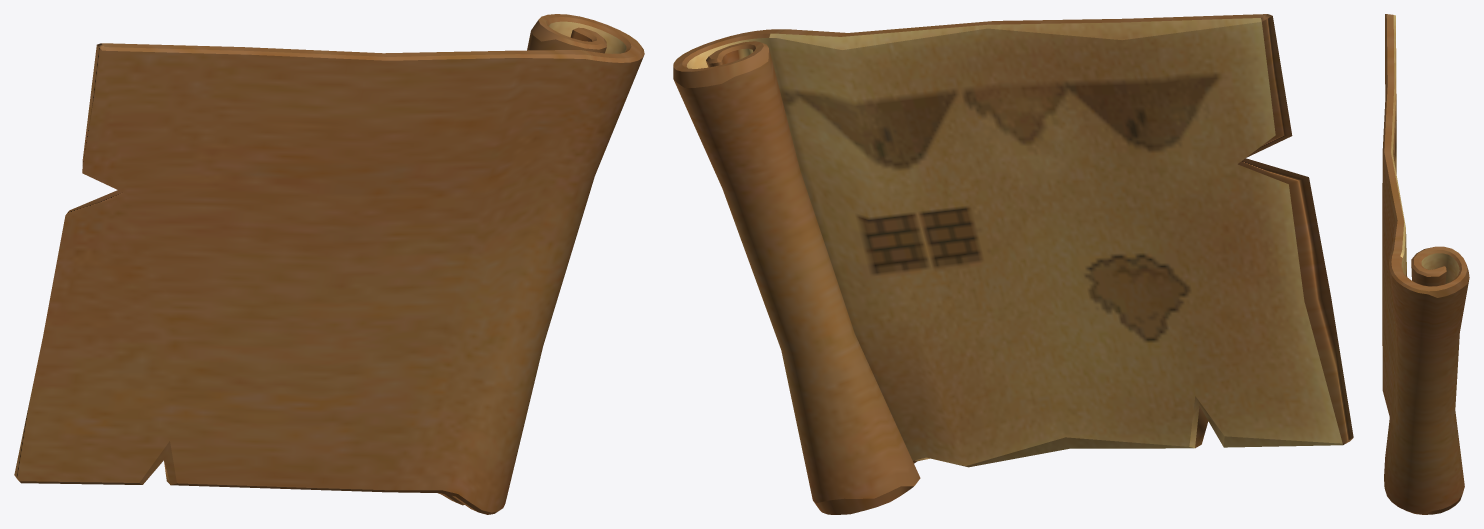
The model's file is Scroll.FBX.
The picture shows the model from 3 angles, left to right: view 1: azimuth 30°, elevation 25°; view 2: azimuth 150°, elevation 25°; view 3: azimuth 270°, elevation 25°; orthographic projection. The views are drawn at different scales.
Parts seen in each view (by area): view 1: pCube171__Paper00_AI; view 2: pCube171__Paper00_AI; view 3: pCube171__Paper00_AI.
Part boxes in pixels (x1,y1,x2,y2): pCube171__Paper00_AI: (14,14,644,514); pCube171__Paper00_AI: (673,14,1353,514); pCube171__Paper00_AI: (1382,14,1469,514).
Size of the model in its own units: 298 by 250 by 53.54.
